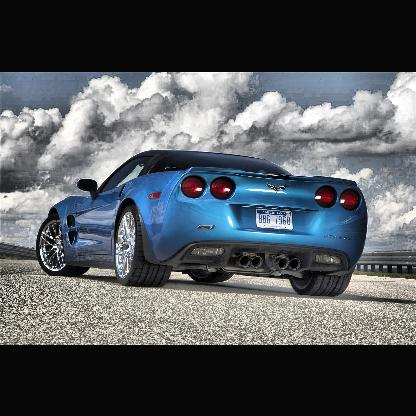Chevrolet Corvette ZR1 2012: (35, 145, 371, 305)
